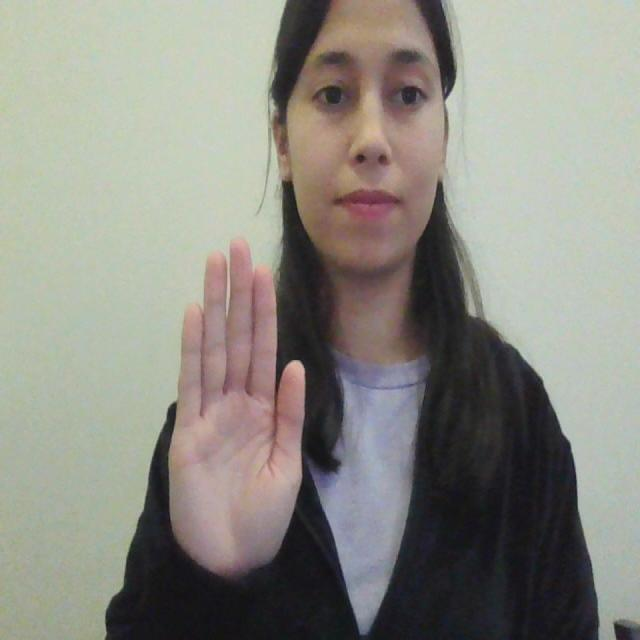Dur: (160, 218, 326, 592)
